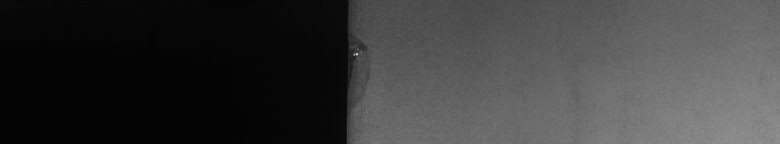hb: (356, 33, 372, 104)
